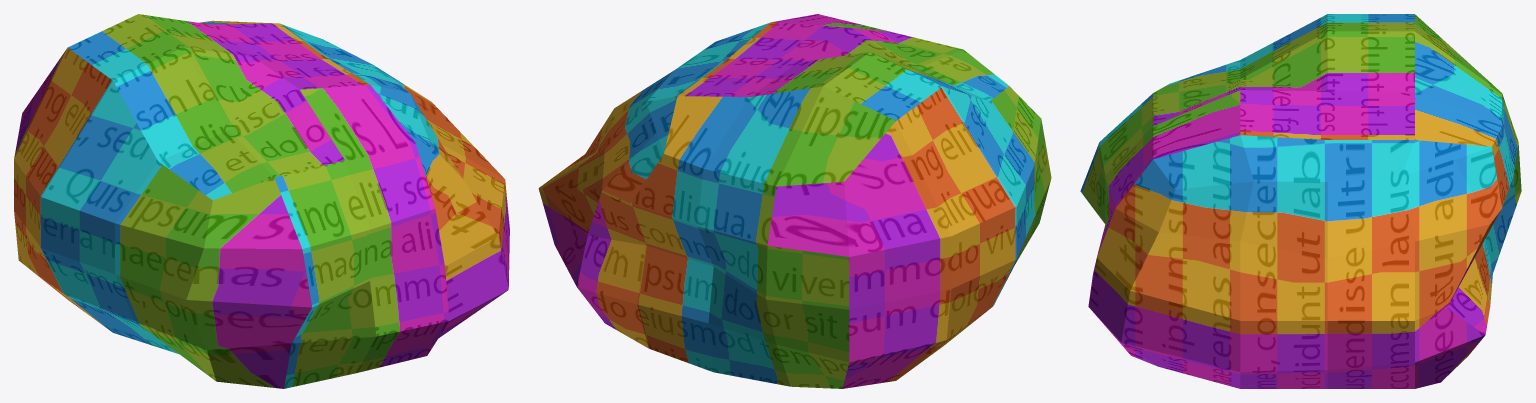
The model's file is SM_Rock.fbx.
3 renders of one model, left to right at view 1: azimuth 30°, elevation 25°; view 2: azimuth 150°, elevation 25°; view 3: azimuth 270°, elevation 25°, orthographic. The views are drawn at different scales.
Visible parts, largest first — view 1: SM_Rock; view 2: SM_Rock; view 3: SM_Rock.
Boxes of the visible parts, x1,y1,x2,y2 form: SM_Rock: (14,14,509,388); SM_Rock: (538,14,1051,388); SM_Rock: (1080,14,1521,388).
Bounding box in the file's own units: 28.6 × 17.33 × 26.85.
Materials: 1 (1 with a texture image).
